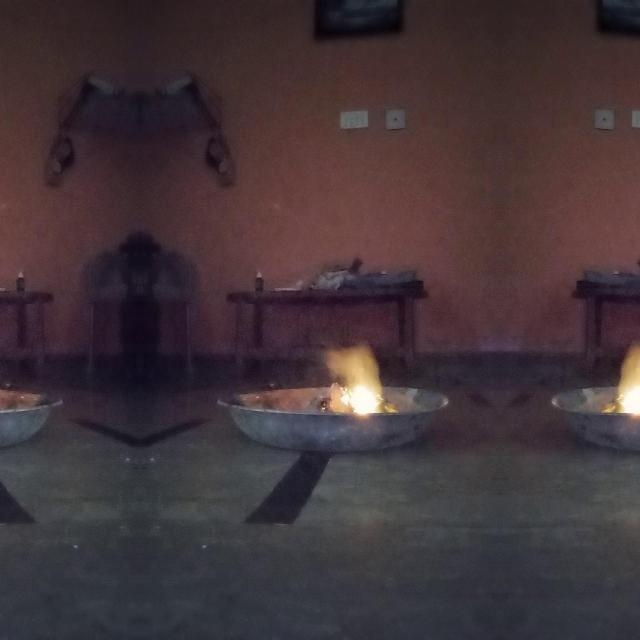fire: (287, 324, 414, 442), (593, 323, 640, 462)
